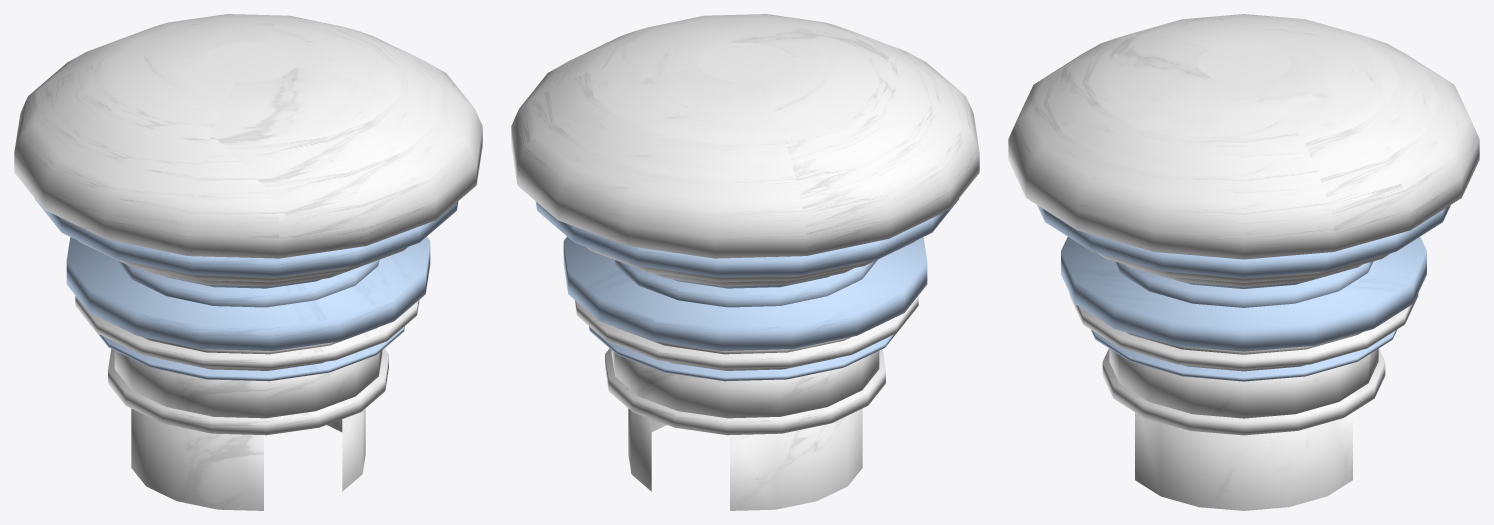
Rendered from Monument.fbx.
The picture shows the model from 3 angles, left to right: view 1: azimuth 30°, elevation 25°; view 2: azimuth 150°, elevation 25°; view 3: azimuth 270°, elevation 25°; orthographic projection.
Visible parts, largest first — view 1: Cylinder.025; view 2: Cylinder.025; view 3: Cylinder.025.
Boxes of the visible parts, x1,y1,x2,y2 form: Cylinder.025: [14, 14, 482, 510]; Cylinder.025: [511, 14, 979, 510]; Cylinder.025: [1008, 14, 1479, 510].
Bounding box in the file's own units: 3755 × 3500 × 3755.
